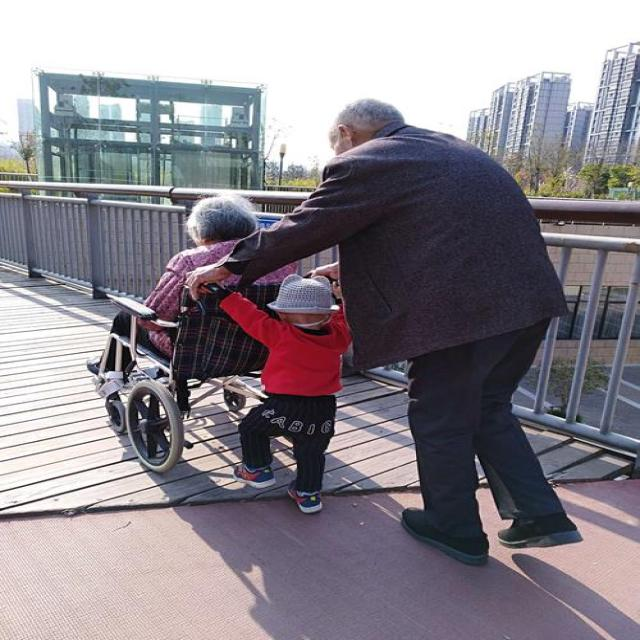wheelchairs: (73, 246, 365, 471)
